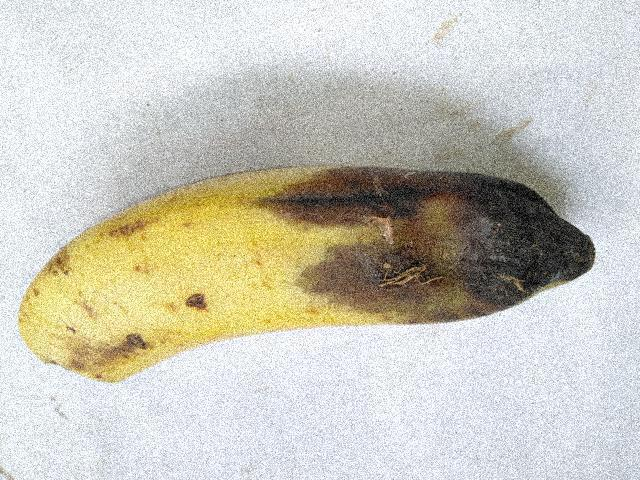rotten: (219, 134, 584, 340), (41, 323, 173, 398)
